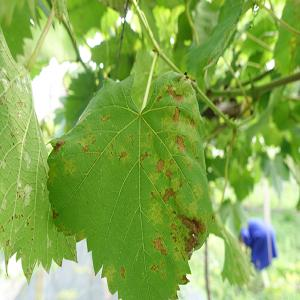Folha: (45, 68, 215, 298), (0, 21, 81, 287)
Fungo: (153, 157, 205, 259), (175, 212, 205, 258), (78, 128, 100, 158), (19, 142, 37, 174), (16, 182, 32, 210), (16, 68, 30, 98), (166, 84, 184, 103), (150, 235, 166, 255), (162, 186, 178, 202), (192, 215, 205, 234), (0, 196, 11, 216), (175, 134, 185, 153), (53, 140, 65, 154), (172, 106, 180, 125), (154, 158, 164, 173), (177, 70, 189, 82), (186, 113, 194, 128), (51, 204, 59, 218), (100, 112, 110, 122), (150, 263, 160, 273), (165, 169, 173, 181), (118, 150, 127, 160), (120, 266, 125, 278), (183, 70, 189, 80), (150, 190, 154, 200), (190, 118, 194, 128), (195, 156, 199, 164)
